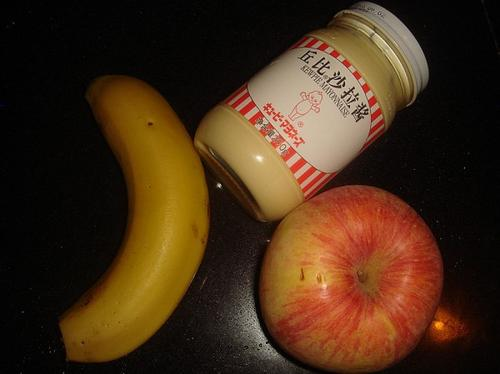Glass: (195, 12, 413, 221)
Other: (58, 68, 208, 364)
